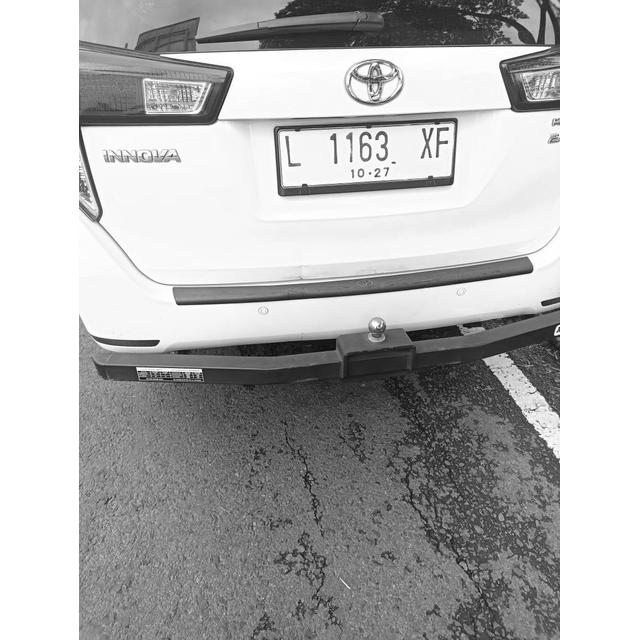license: (280, 120, 452, 181)
